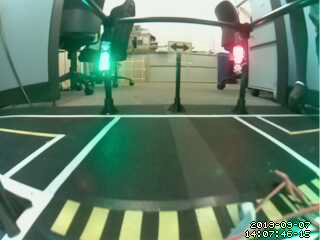Left_Right_sign: (169, 40, 196, 58)
Traffic_light_green: (101, 43, 112, 74)
Traffic_light_red: (234, 47, 244, 80)
